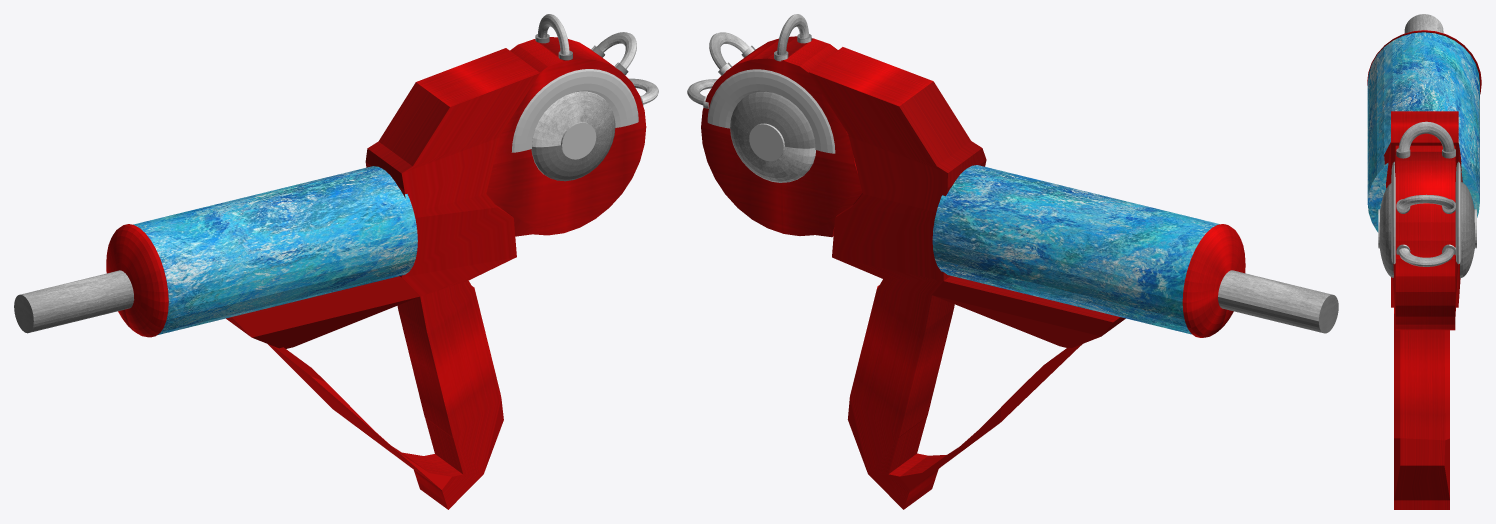
File: raygun.fbx
The picture shows the model from 3 angles, left to right: view 1: azimuth 30°, elevation 25°; view 2: azimuth 150°, elevation 25°; view 3: azimuth 270°, elevation 25°; orthographic projection.
Visible parts, largest first — view 1: Cylinder.006; view 2: Cylinder.006; view 3: Cylinder.006.
Part boxes in pixels (x1,y1,x2,y2): Cylinder.006: (14,14,658,509); Cylinder.006: (687,14,1338,509); Cylinder.006: (1367,14,1481,509).
Size of the model in its own units: 770 by 526 by 122.
